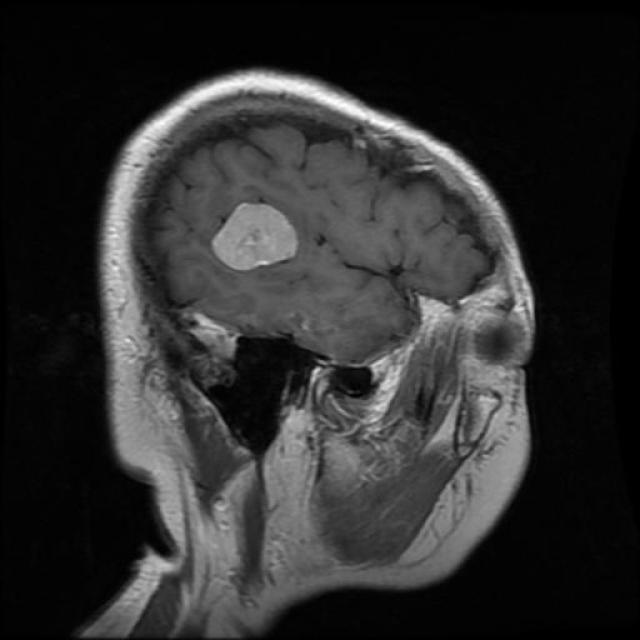meningioma: (208, 180, 311, 275)
